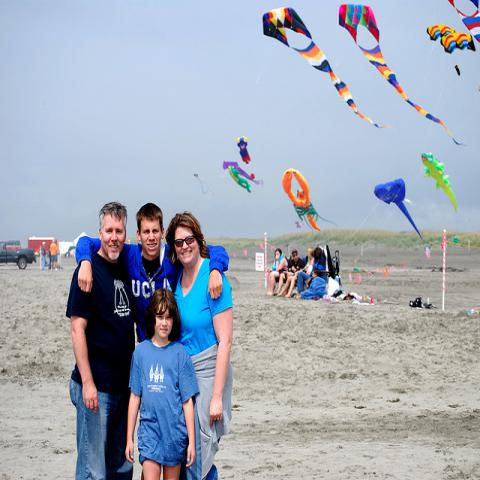car: (6, 240, 21, 249)
truck: (0, 242, 35, 271)
